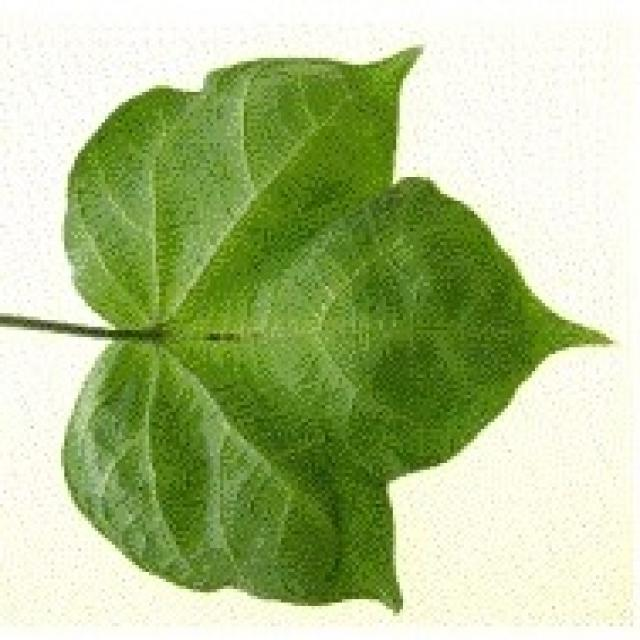Leaf Curl Virus: (104, 155, 384, 475)
